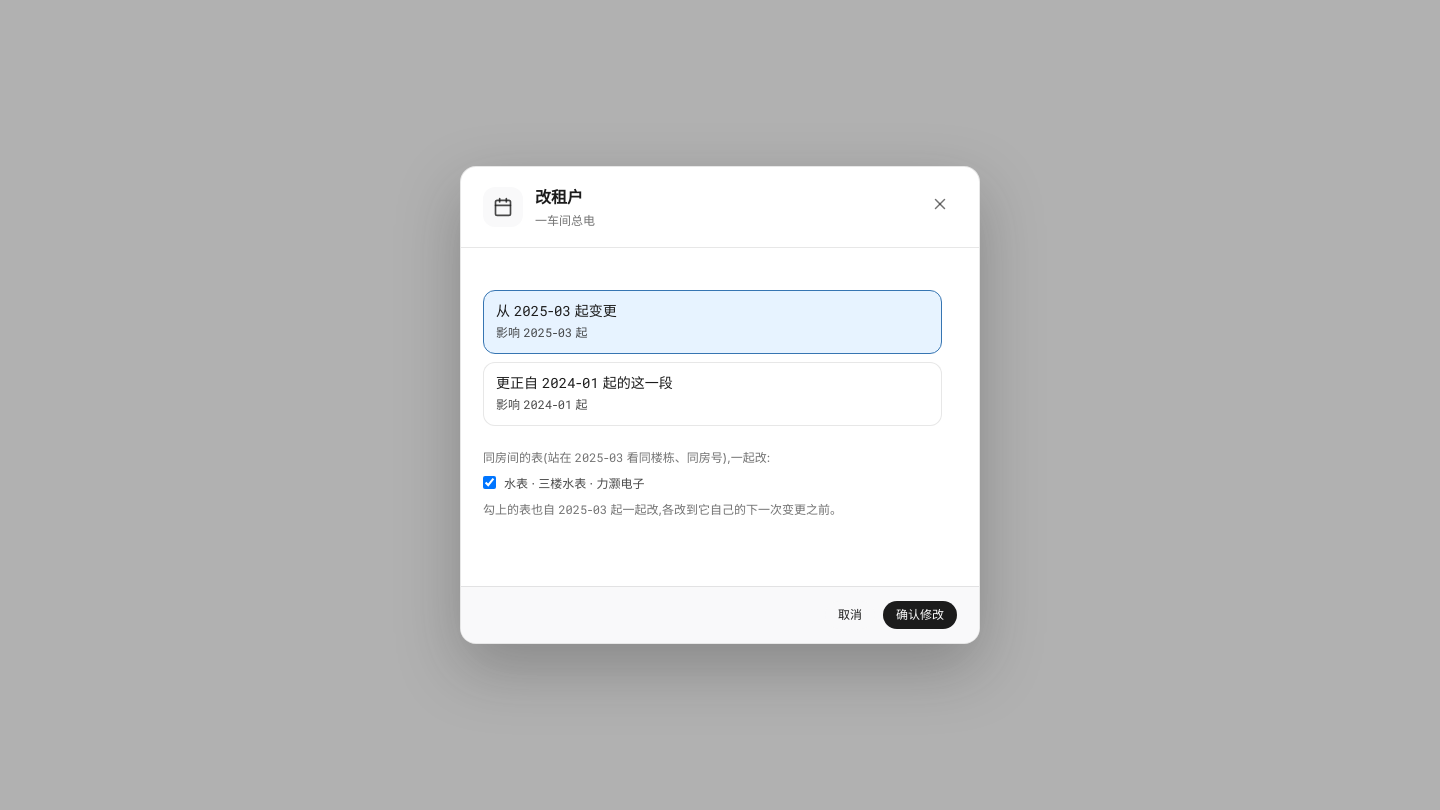
Test: 改归属弹框 › 保存途中不许取消 / 关闭(关了弹框卸载,写完的刷新就丢了,输入却被复位成旧值)
This screenshot has width=1440, height=810.
Click the button "确认修改". click: (920, 615)
box: [883, 601, 957, 629]
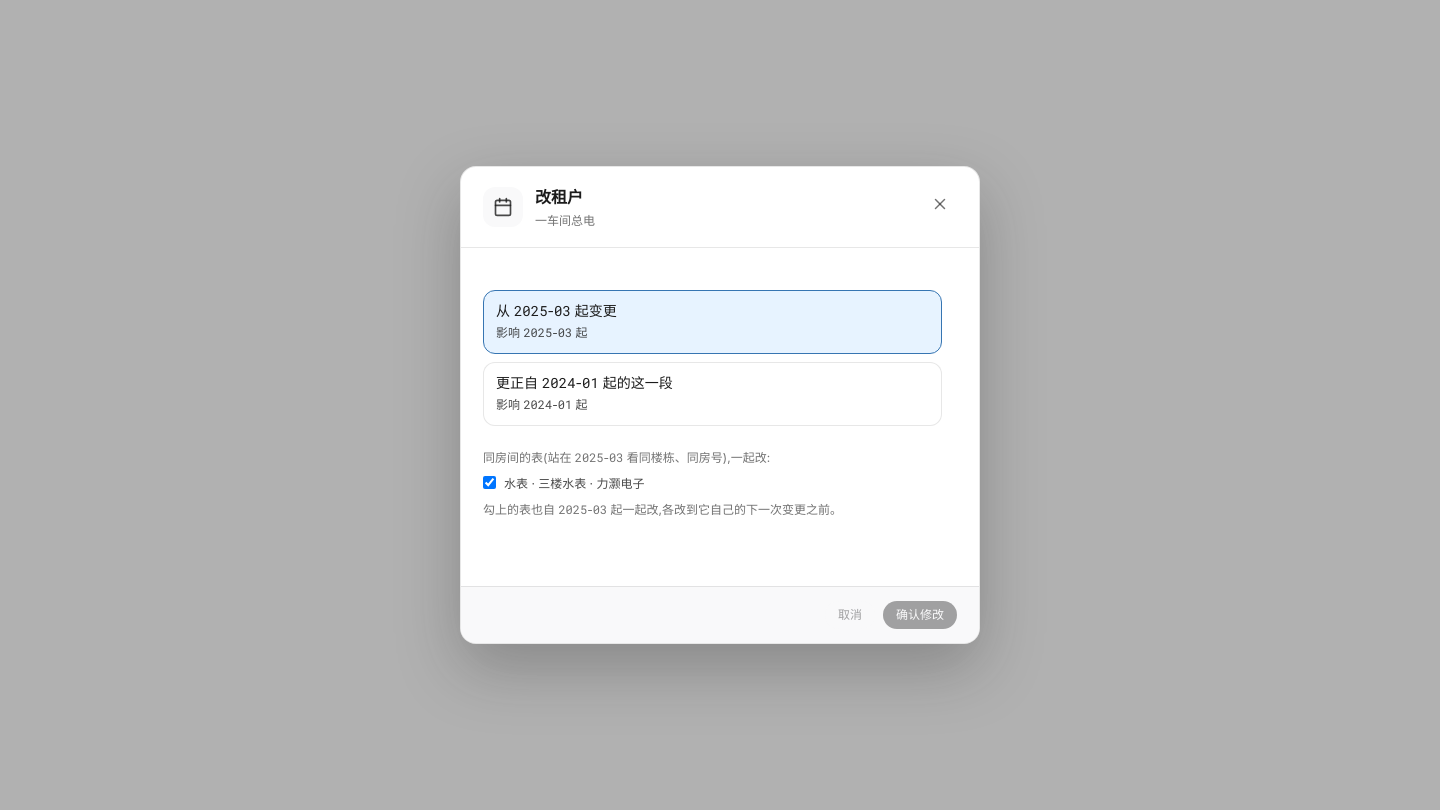
expect the button "取消" is disabled: met, box [825, 601, 875, 629]
